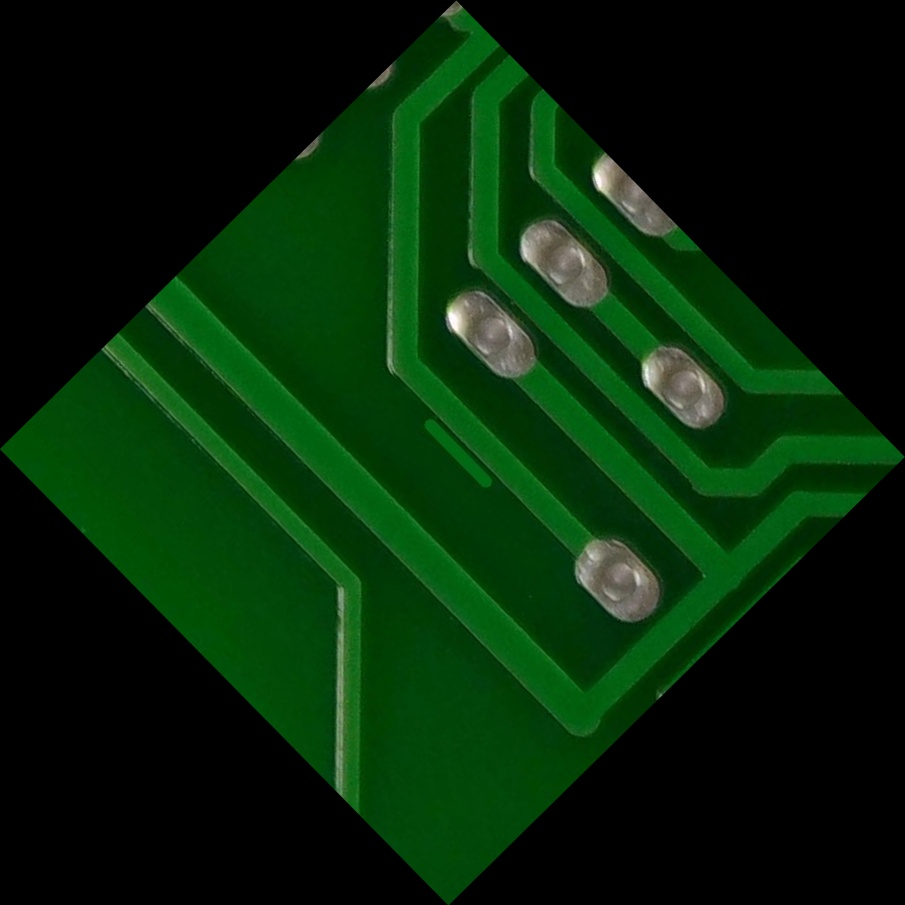spurious_copper: (396, 395, 510, 510)
